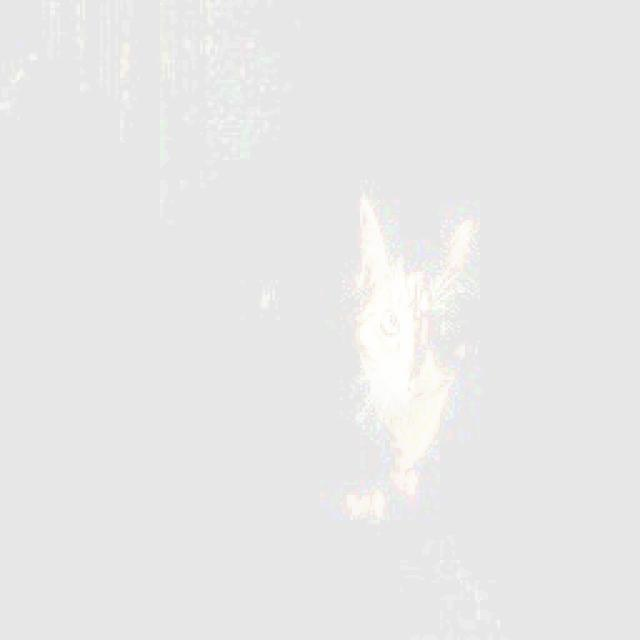cat: (348, 193, 478, 535)
